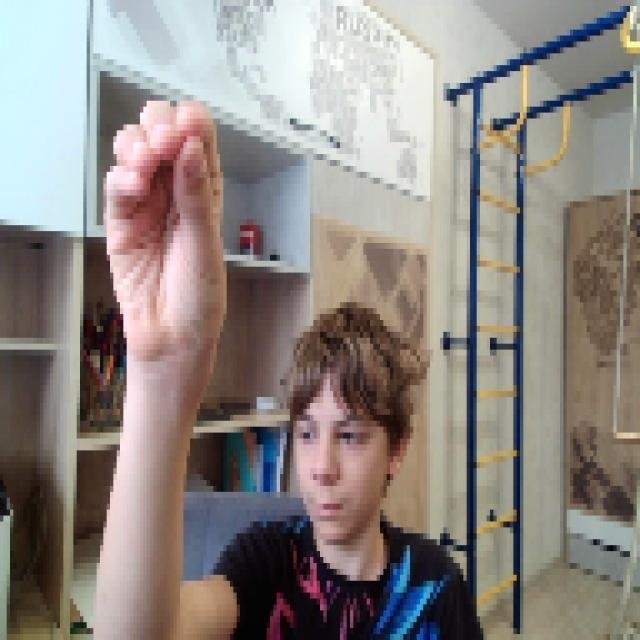left_click: (100, 89, 223, 350)
